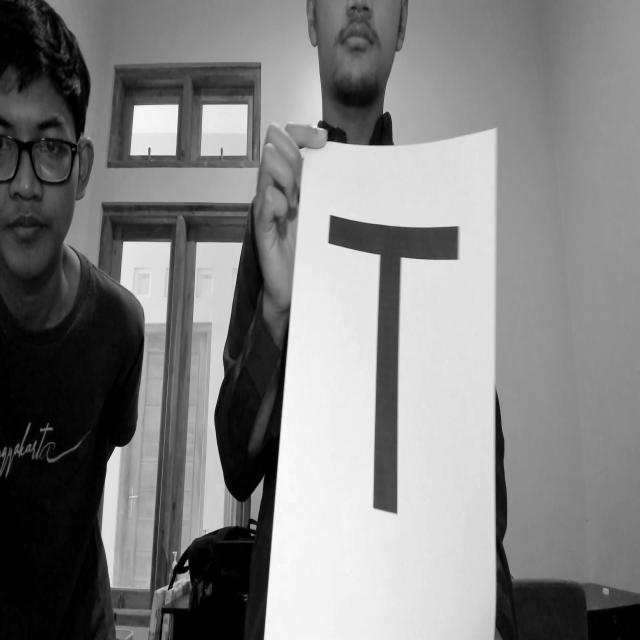t: (325, 200, 472, 532)
